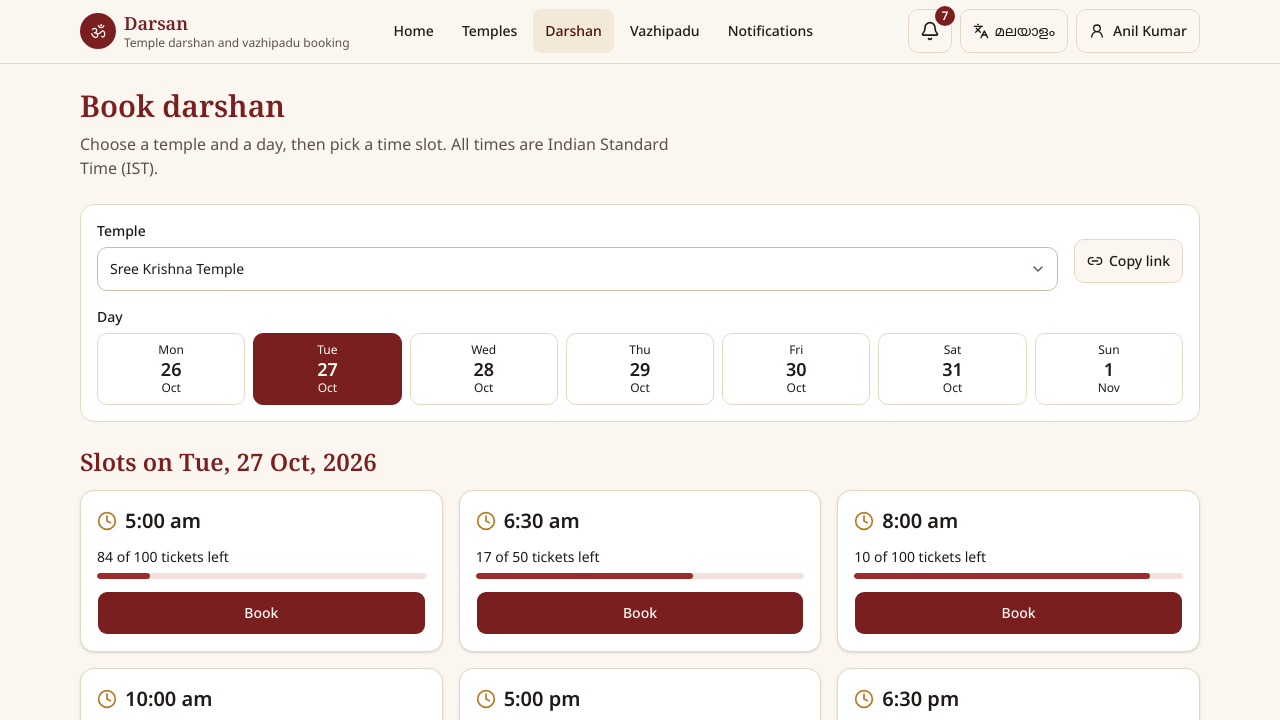
Scenario: P1 · slot list and booking › rejects more tickets than remain
Click the button with aria-label "Book the 8:00 am slot": (1019, 613) [854, 591, 1183, 635]
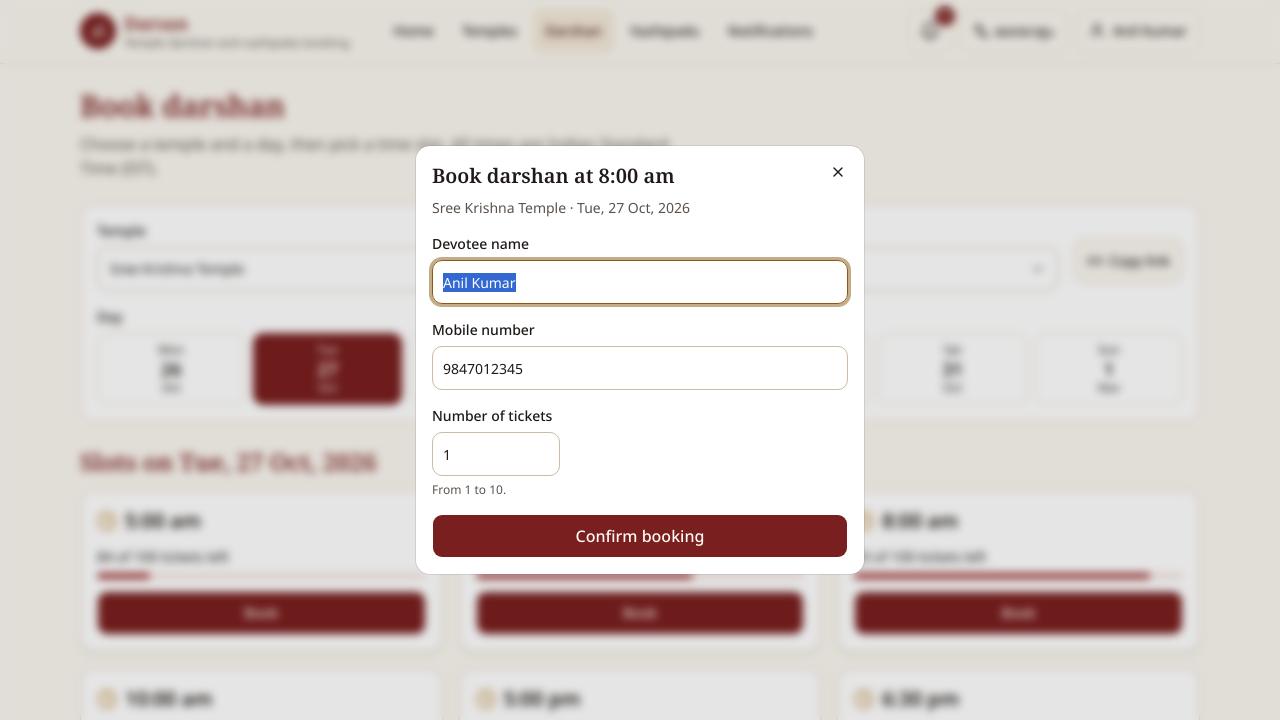
Replace the text in the number field labelled "Number of tickets" with "11": (496, 454) [432, 432, 560, 476]
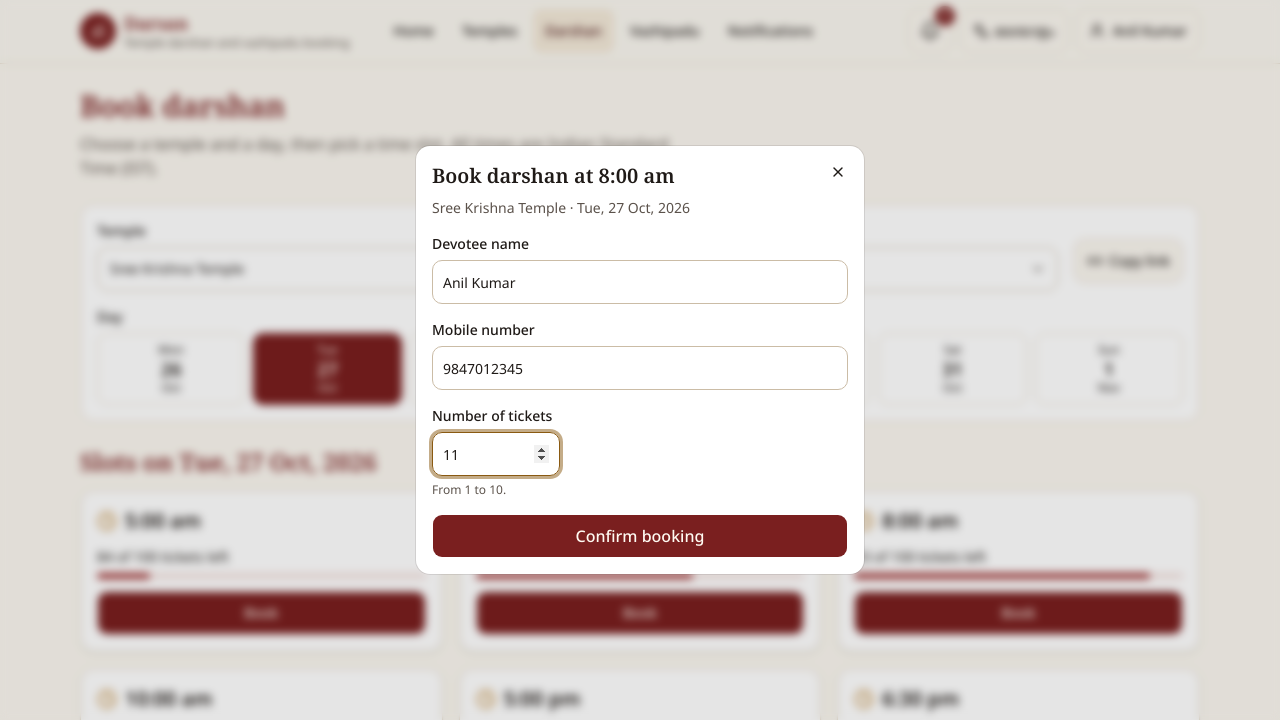
Click the button "Confirm booking": (640, 536) [432, 514, 848, 558]
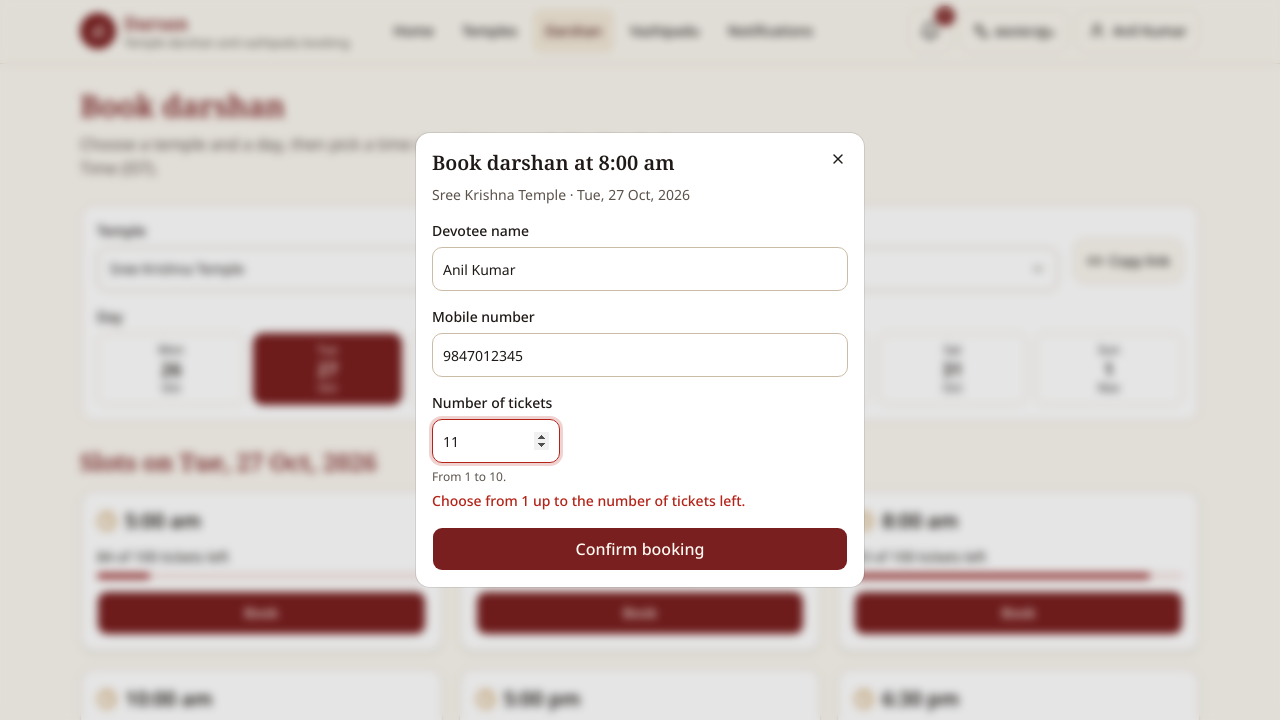
Expected: the text "Choose from 1 up to the number of tickets left." is shown, [432, 491, 745, 510]
